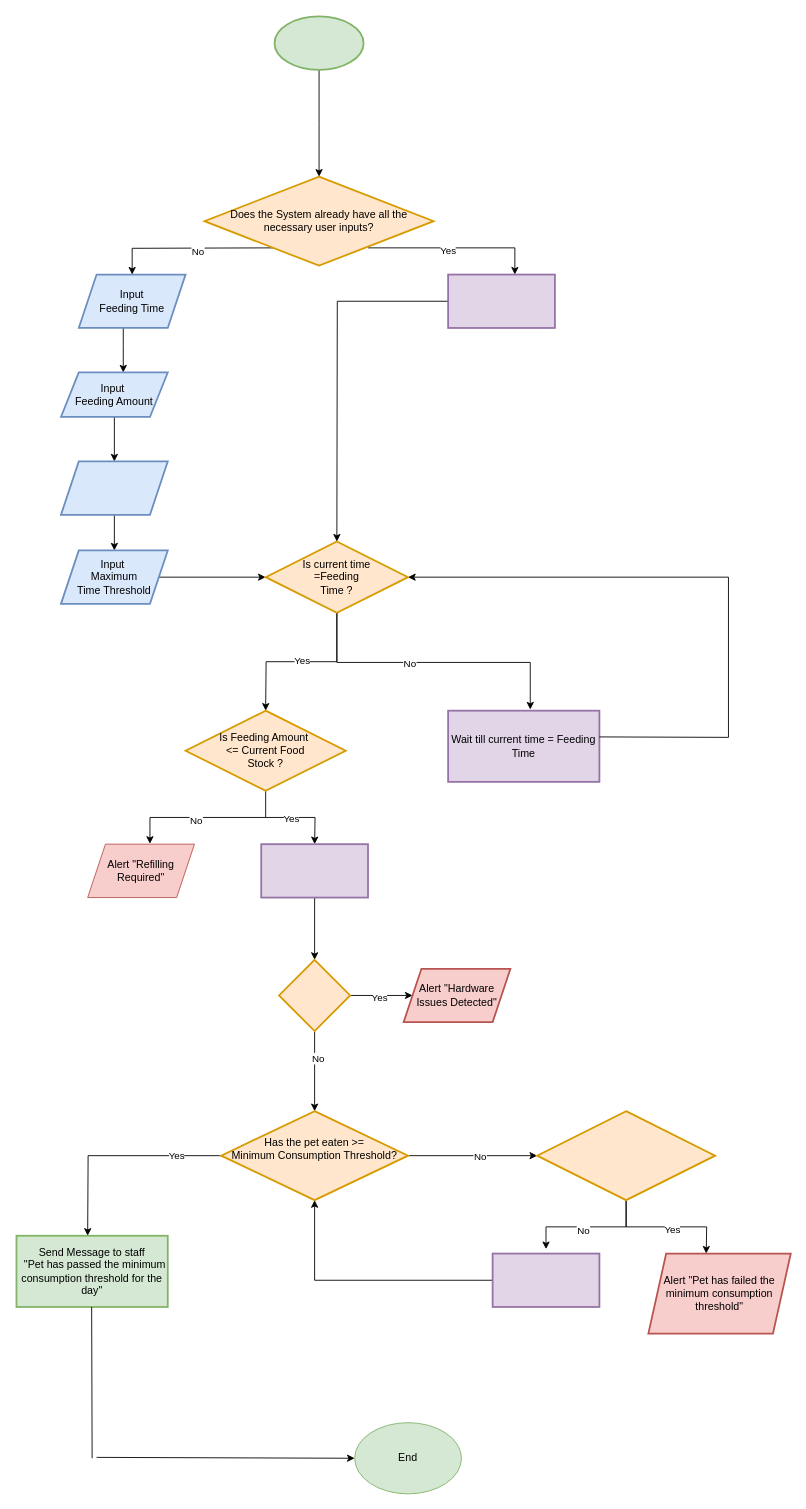
This 806x1509 diagram has some shape labels left out. Each missing label, with the box of its shape:
Hardware issues ?: (278, 959, 351, 1032)
Input Minimum Consumption Threshold: (60, 460, 168, 515)
Is current time >= Maximum Time Threshold?: (536, 1110, 716, 1201)
Load System Inputs: (447, 273, 555, 328)
Rotate Motor: (260, 843, 368, 898)
System On: (273, 15, 364, 70)
Wait: (491, 1252, 600, 1307)
